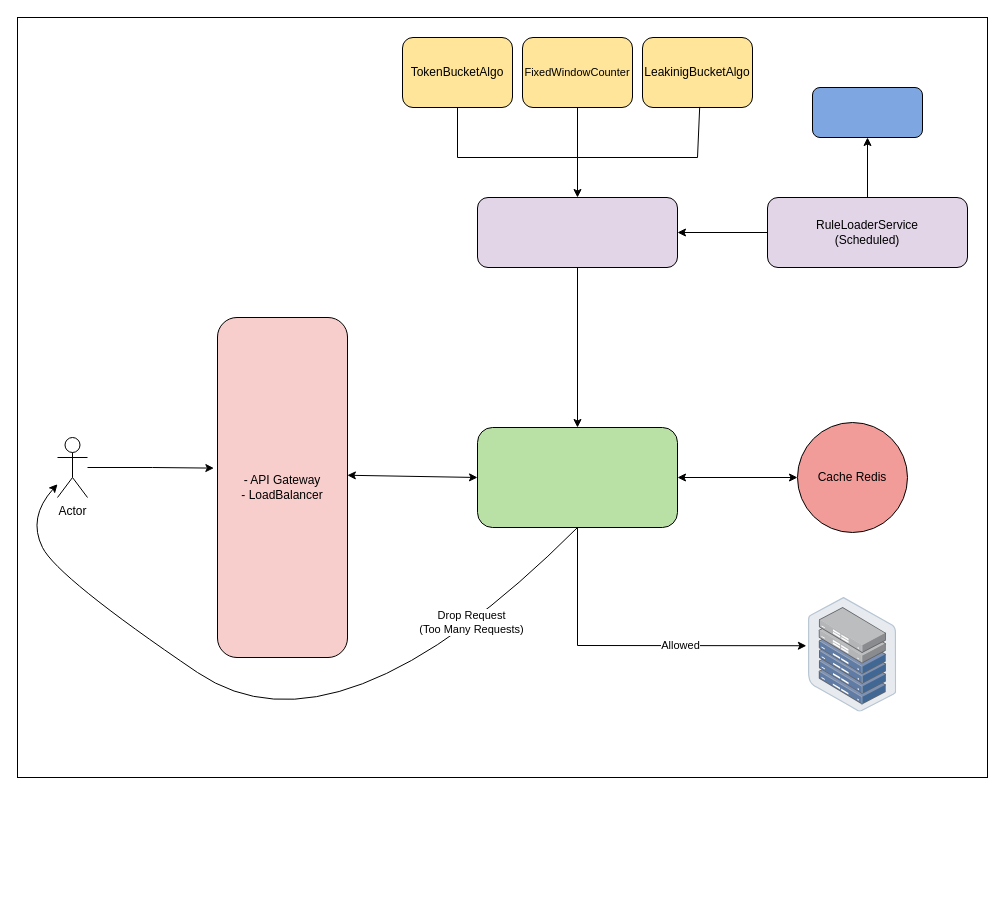
The diagram is 1005 pixels wide and 923 high, and some of its shapes have lost their labels. Here are the shapes that lost their labels. From the top down, the centre of each, then its label:
At (x=867, y=112): "Rules File".
At (x=577, y=232): "RateLimiterService".
At (x=577, y=477): "RateLimitController".
